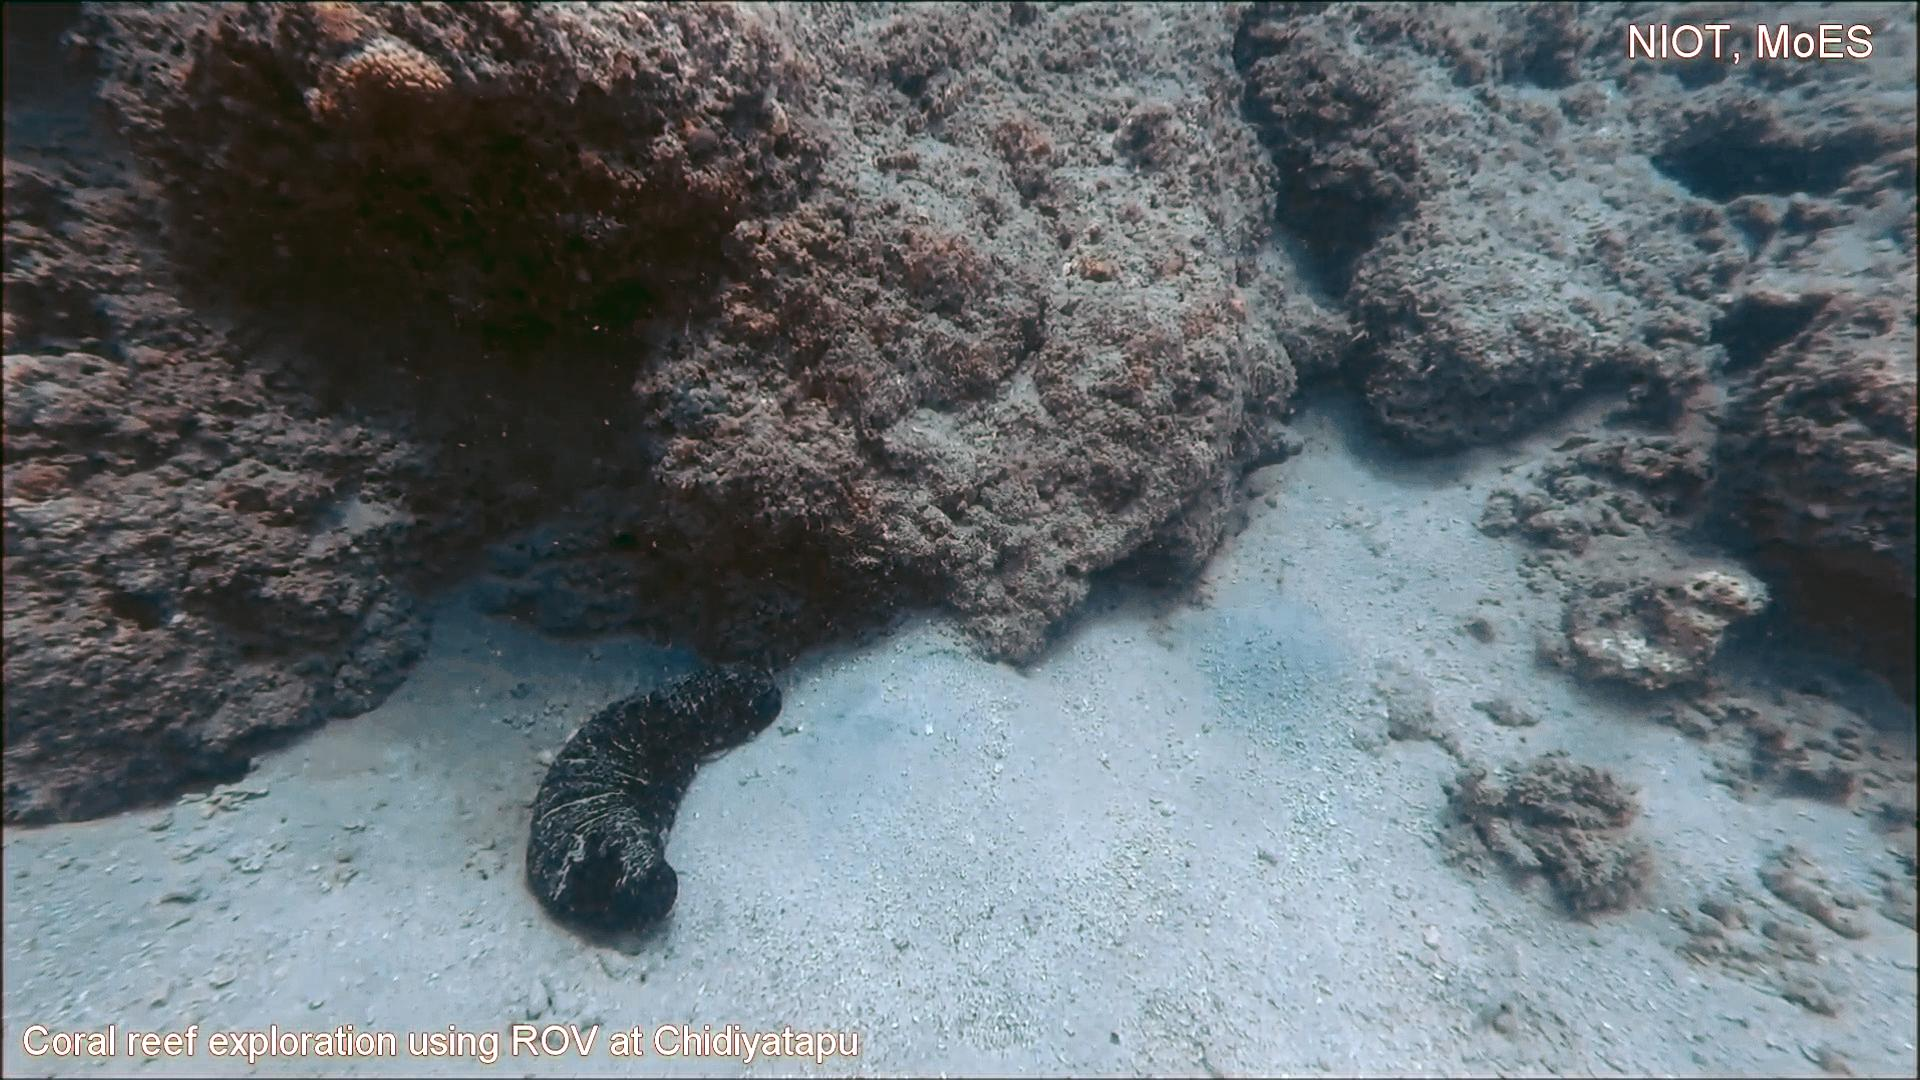Montastraea: (295, 26, 471, 162)
